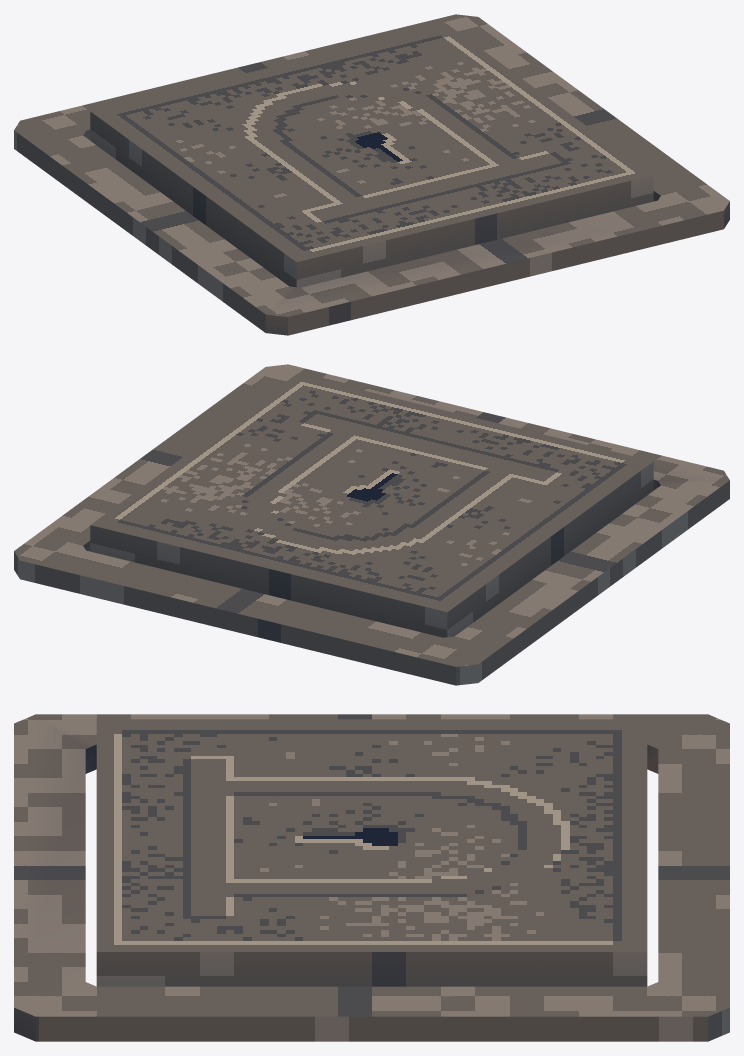
Rendered from dprop.plate.glb.
3 renders of one model, top to bottom at view 1: azimuth 30°, elevation 25°; view 2: azimuth 150°, elevation 25°; view 3: azimuth 270°, elevation 25°, orthographic. The views are drawn at different scales.
Parts seen in each view (by area): view 1: kit_slab, kit_frame; view 2: kit_slab, kit_frame; view 3: kit_slab, kit_frame.
Part boxes in pixels (box(x1,y1,x2,y2)): kit_slab: box(90, 24, 653, 287); kit_frame: box(14, 14, 729, 335); kit_slab: box(90, 374, 653, 637); kit_frame: box(14, 364, 729, 685); kit_slab: box(96, 719, 647, 986); kit_frame: box(14, 714, 729, 1041).
Bounding box in the file's own units: 1.3 × 0.11 × 1.3.
2 materials, 2 textured.
